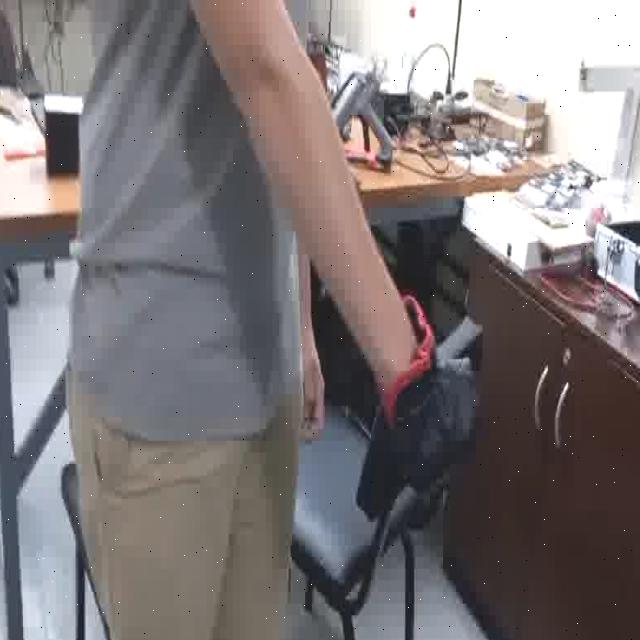Gloves: (374, 277, 481, 491)
